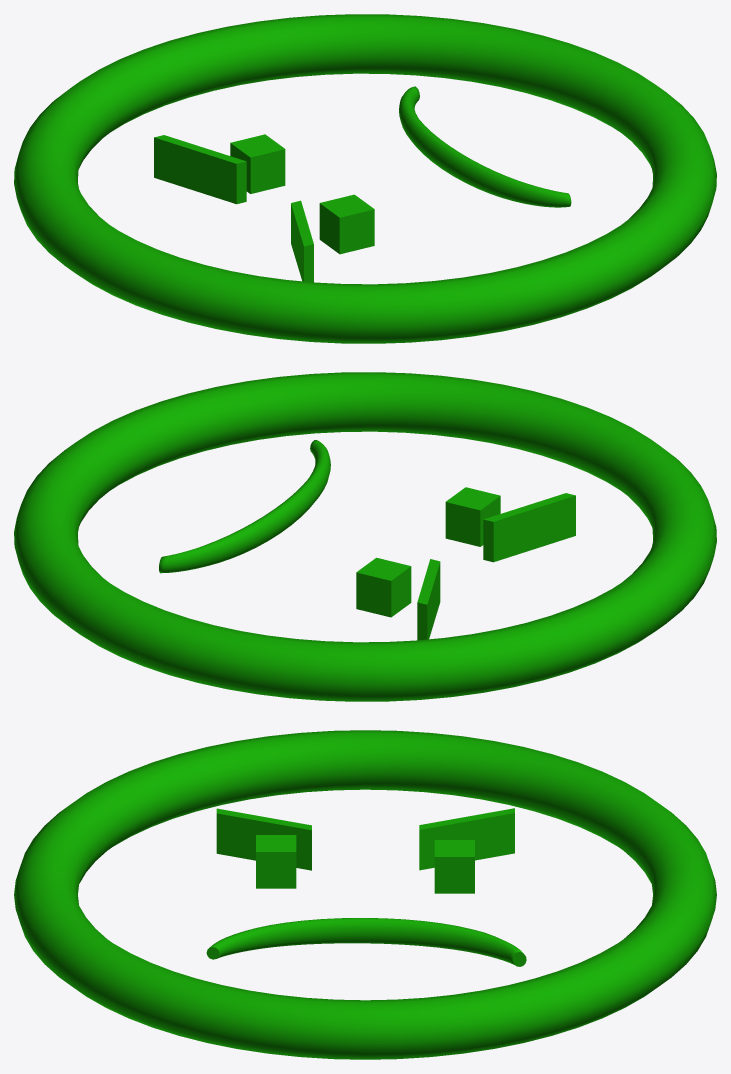
Rendered from Smiley_frown_nonasian.fbx.
The picture shows the model from 3 angles, top to bottom: view 1: azimuth 30°, elevation 25°; view 2: azimuth 150°, elevation 25°; view 3: azimuth 270°, elevation 25°; orthographic projection.
Parts seen in each view (by area): view 1: Smiley_Joy; view 2: Smiley_Joy; view 3: Smiley_Joy.
Boxes of the visible parts, left/top/right/bottom form: Smiley_Joy: left=14, top=14, right=716, bottom=343; Smiley_Joy: left=14, top=372, right=716, bottom=701; Smiley_Joy: left=14, top=730, right=716, bottom=1059.
Size of the model in its own units: 240 by 20 by 240.
